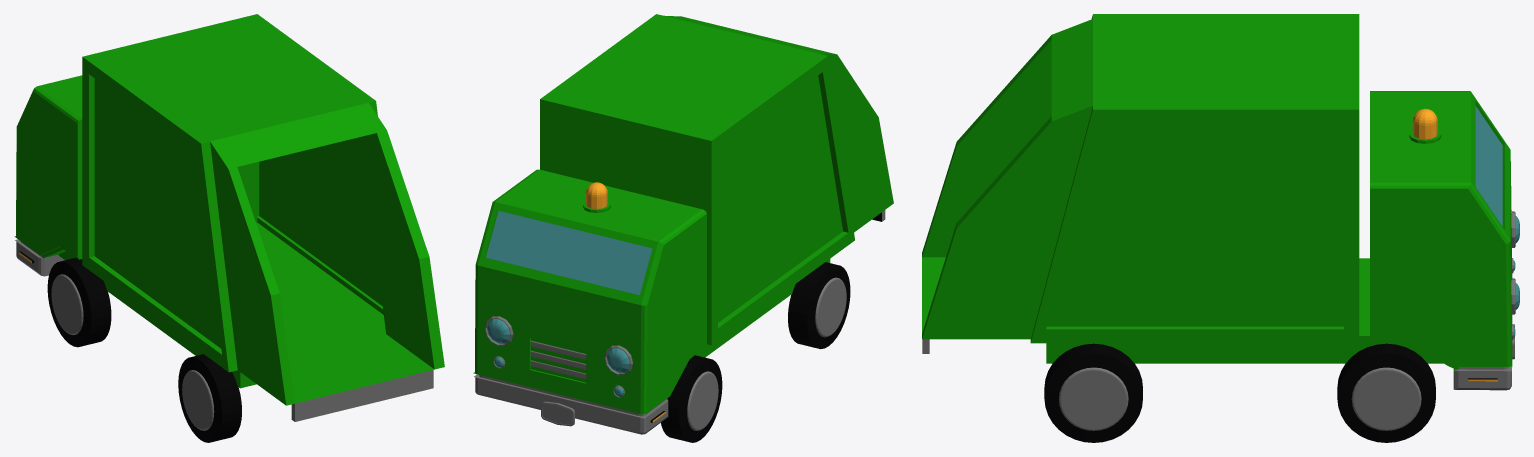
File: Camion de Basura.fbx
3 renders of one model, left to right at view 1: azimuth 30°, elevation 25°; view 2: azimuth 150°, elevation 25°; view 3: azimuth 270°, elevation 25°, orthographic. The views are drawn at different scales.
Parts seen in each view (by area): view 1: Adelante; view 2: Adelante; view 3: Adelante.
Part boxes in pixels (box(x1,y1,x2,y2)): Adelante: box(14, 14, 444, 442); Adelante: box(473, 14, 893, 442); Adelante: box(922, 14, 1519, 442).
Size of the model in its own units: 848 by 1293 by 2111.
